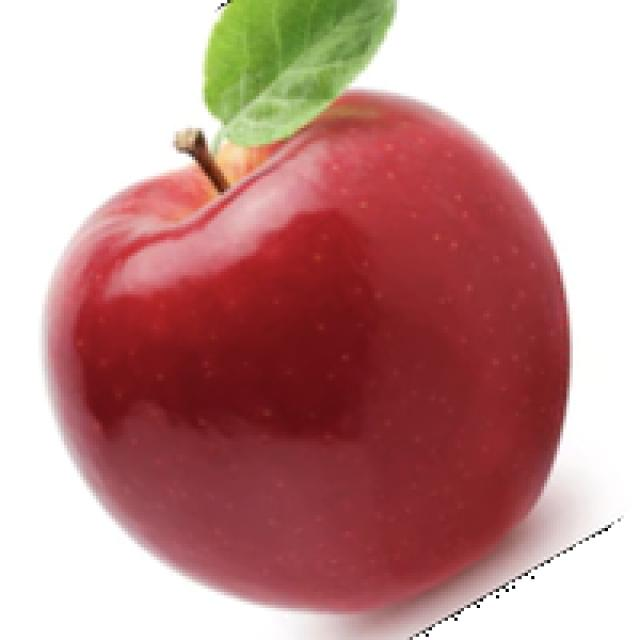apple: (35, 0, 608, 637)
